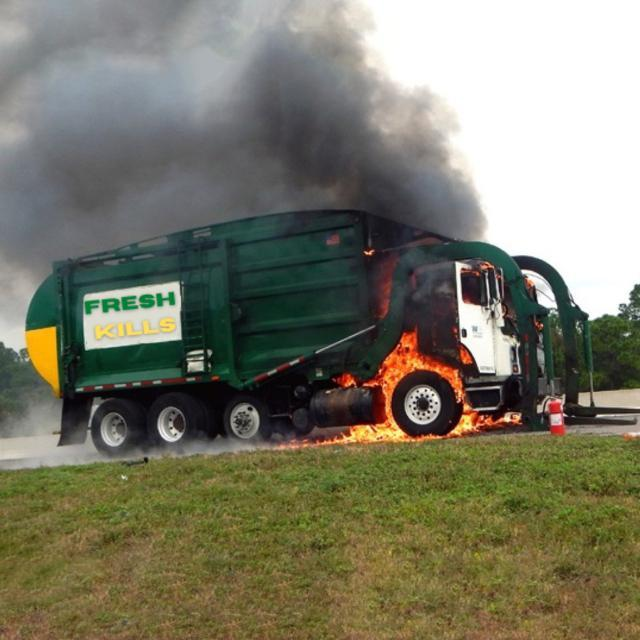Fire: (331, 331, 526, 445)
Smoke: (0, 0, 488, 263)
